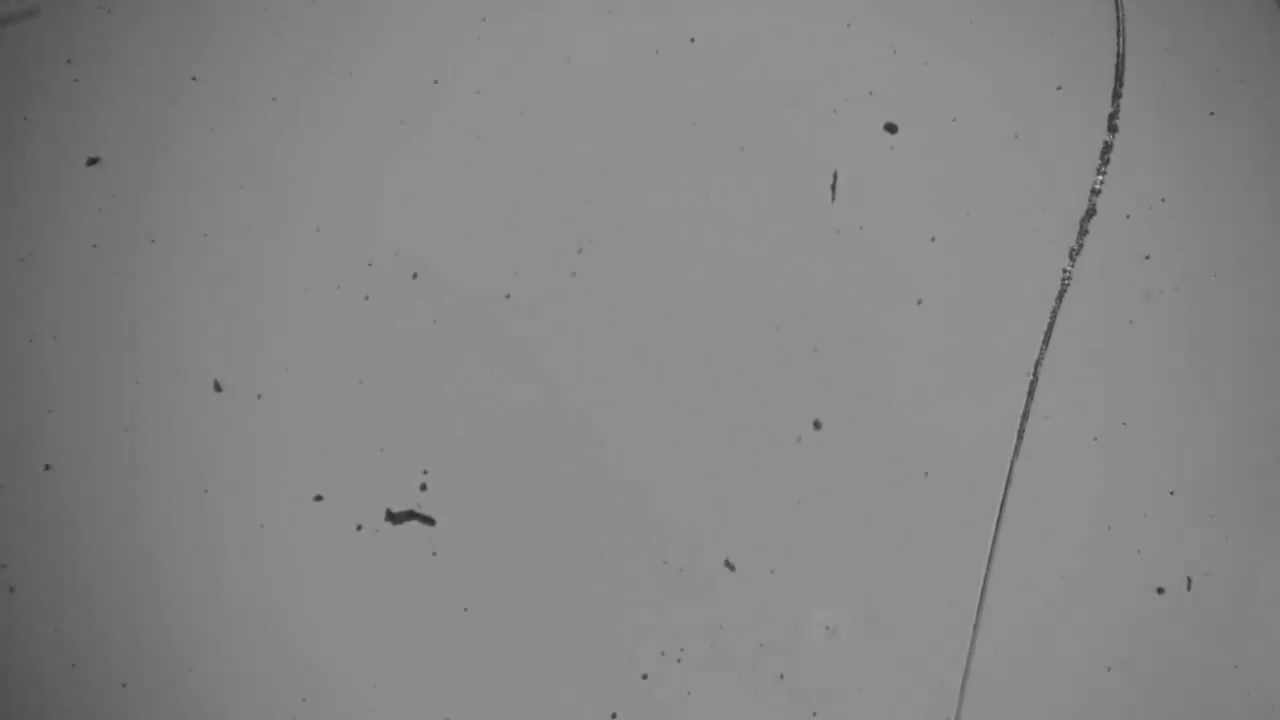scratch: (951, 1, 1141, 713)
